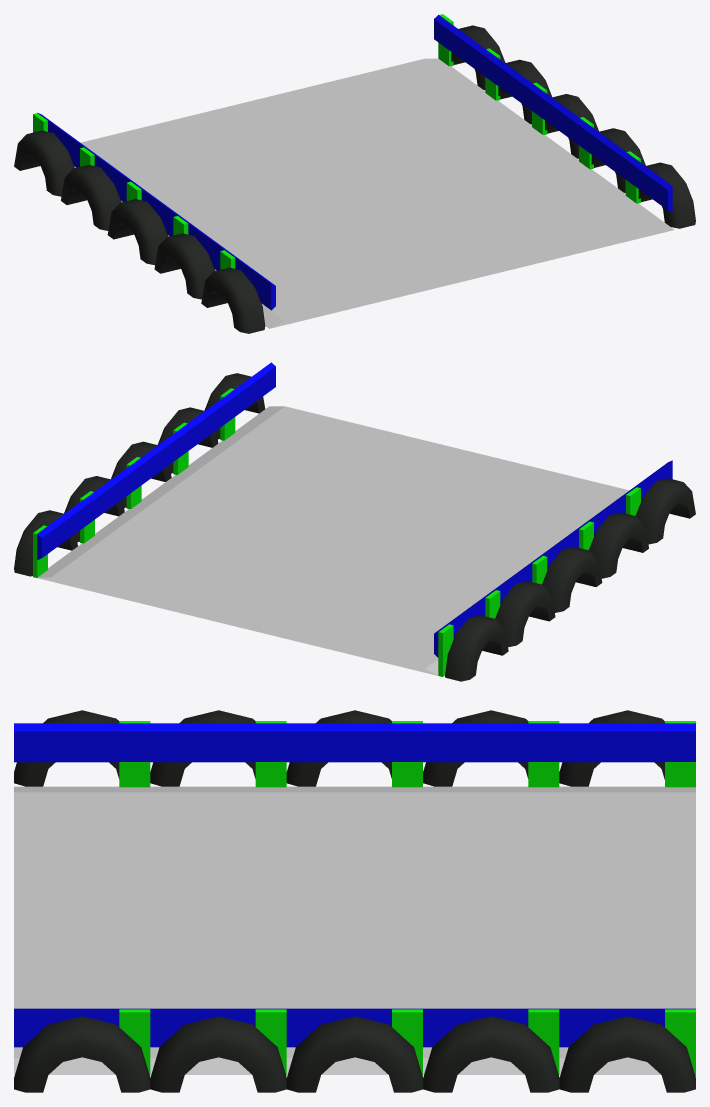
Rendered from track_station_mockup.fbx.
3 views of the same model, one above another, from view 1: azimuth 30°, elevation 25°; view 2: azimuth 150°, elevation 25°; view 3: azimuth 270°, elevation 25° (orthographic). The views are drawn at different scales.
Parts seen in each view (by area): view 1: track_station_mockup; view 2: track_station_mockup; view 3: track_station_mockup.
Part boxes in pixels (<box>): track_station_mockup: <box>14,14,695,333</box>; track_station_mockup: <box>14,362,695,681</box>; track_station_mockup: <box>14,710,695,1092</box>.
Size of the model in its own units: 1.12 by 0.1048 by 1.
